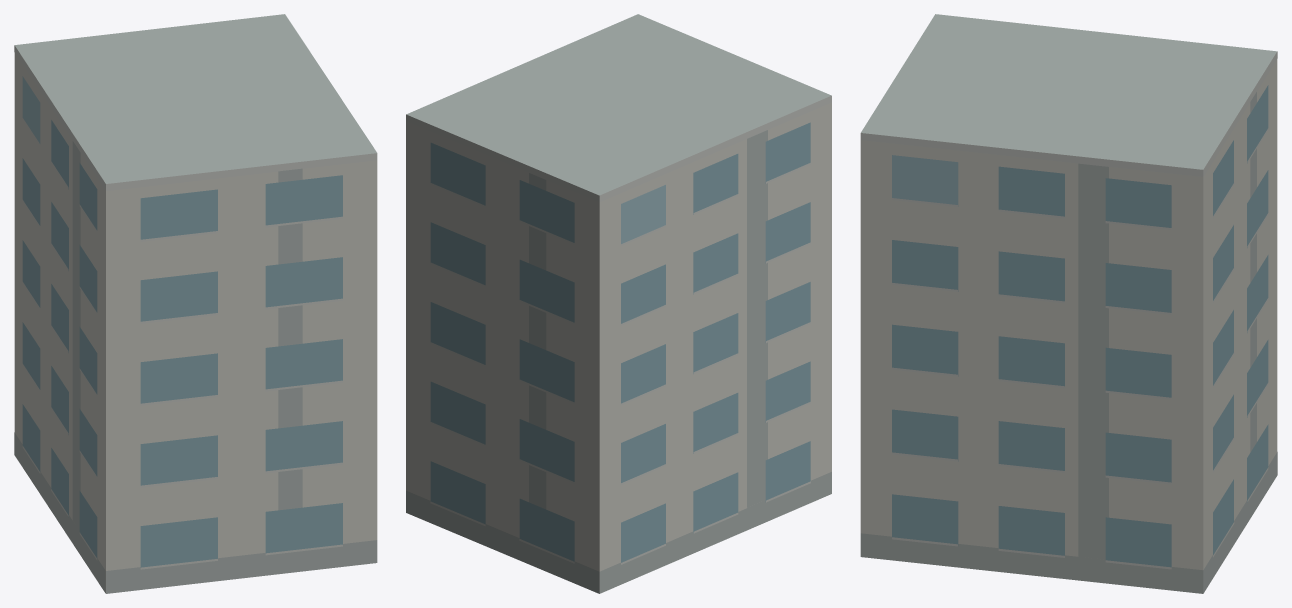
Rendered from survey-upis-32799653.glb.
The picture shows the model from 3 angles, left to right: view 1: azimuth 30°, elevation 25°; view 2: azimuth 150°, elevation 25°; view 3: azimuth 270°, elevation 25°; orthographic projection. The views are drawn at different scales.
Visible parts, largest first — view 1: survey-upis-32799653.tmp; view 2: survey-upis-32799653.tmp; view 3: survey-upis-32799653.tmp.
Boxes of the visible parts, x1,y1,x2,y2 form: survey-upis-32799653.tmp: [14, 14, 377, 593]; survey-upis-32799653.tmp: [406, 14, 831, 593]; survey-upis-32799653.tmp: [860, 14, 1277, 593].
Bounding box in the file's own units: 11.28 × 14.3 × 12.75.
